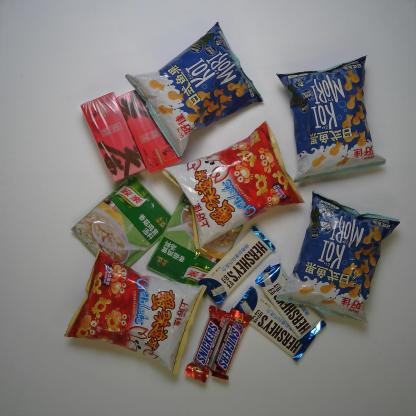Chocolate: (197, 224, 276, 308), (232, 286, 317, 362), (255, 262, 326, 342), (205, 306, 253, 382), (184, 303, 227, 384)
Instant Drink: (80, 91, 146, 183), (117, 85, 183, 175)
Puffed Food: (123, 20, 264, 159), (63, 247, 208, 377), (163, 121, 304, 252), (275, 188, 401, 325), (276, 53, 388, 188)
Seasoner: (145, 182, 245, 301), (70, 175, 172, 274)
